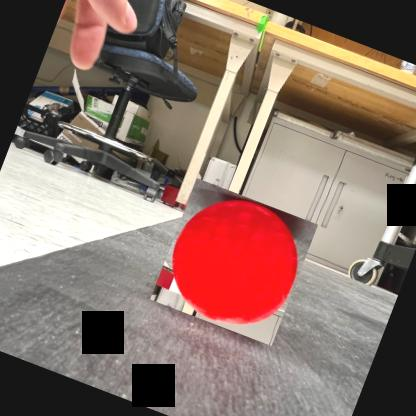red cylinder: (149, 178, 317, 346)
